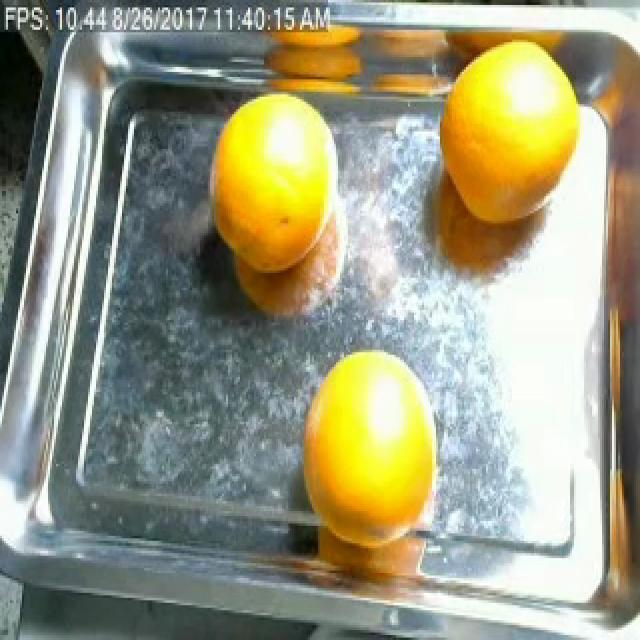Fruit: (284, 330, 456, 541), (190, 77, 354, 298), (422, 27, 590, 238)
